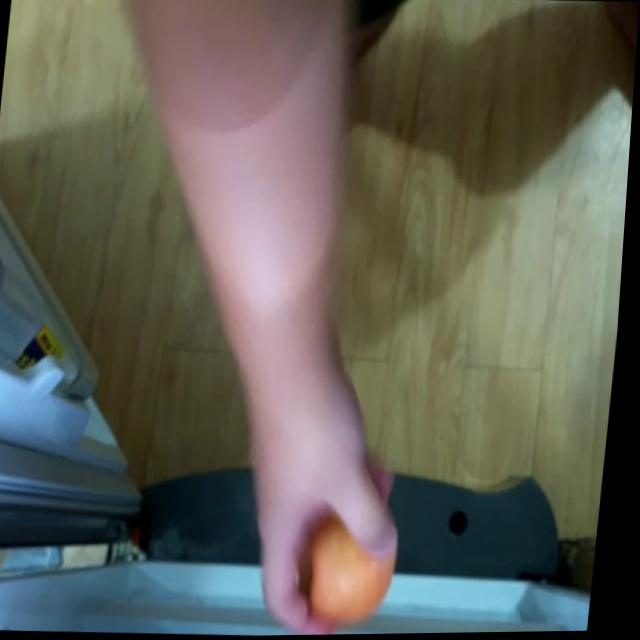apple: (304, 512, 410, 627)
